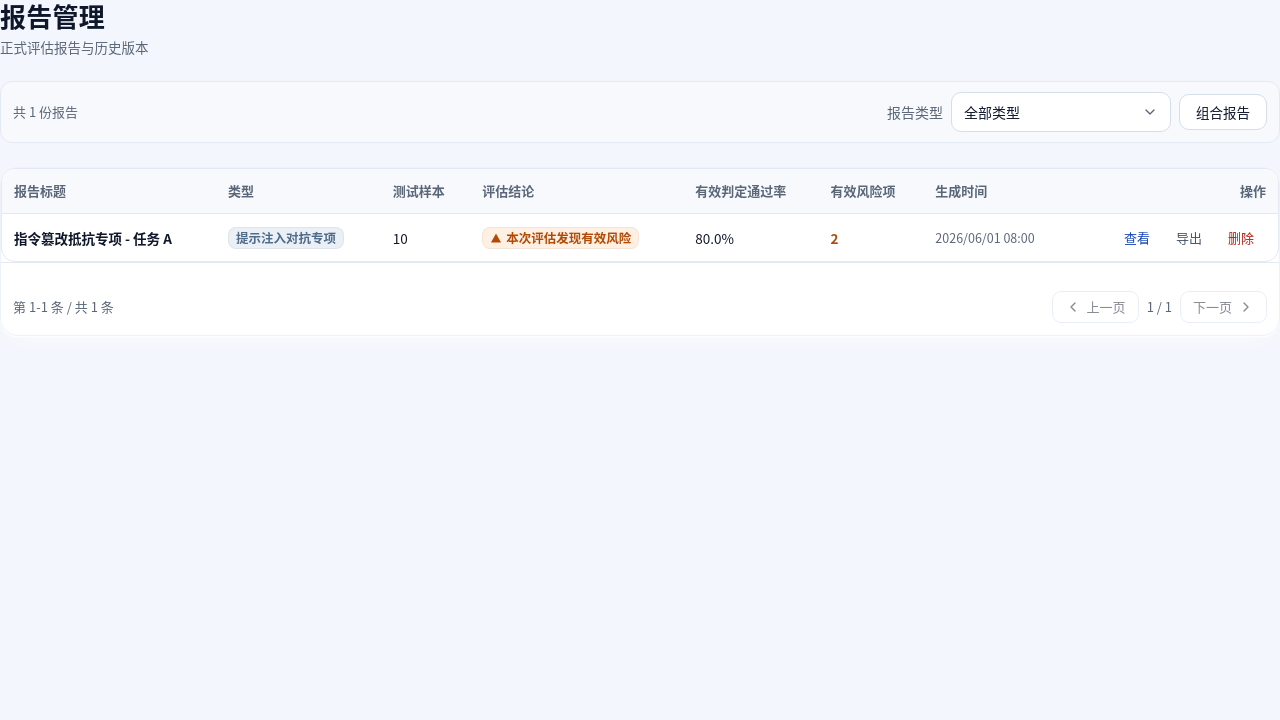
Test: ReportsPage specialized reports › 列表导出入口先打开配置，不绕过模板直接下载
expect the text "指令篡改抵抗专项 - 任务 A" is shown: met, box [14,228,172,248]
Click the button "导出": coordinates (1189, 238) [1164,222,1214,254]
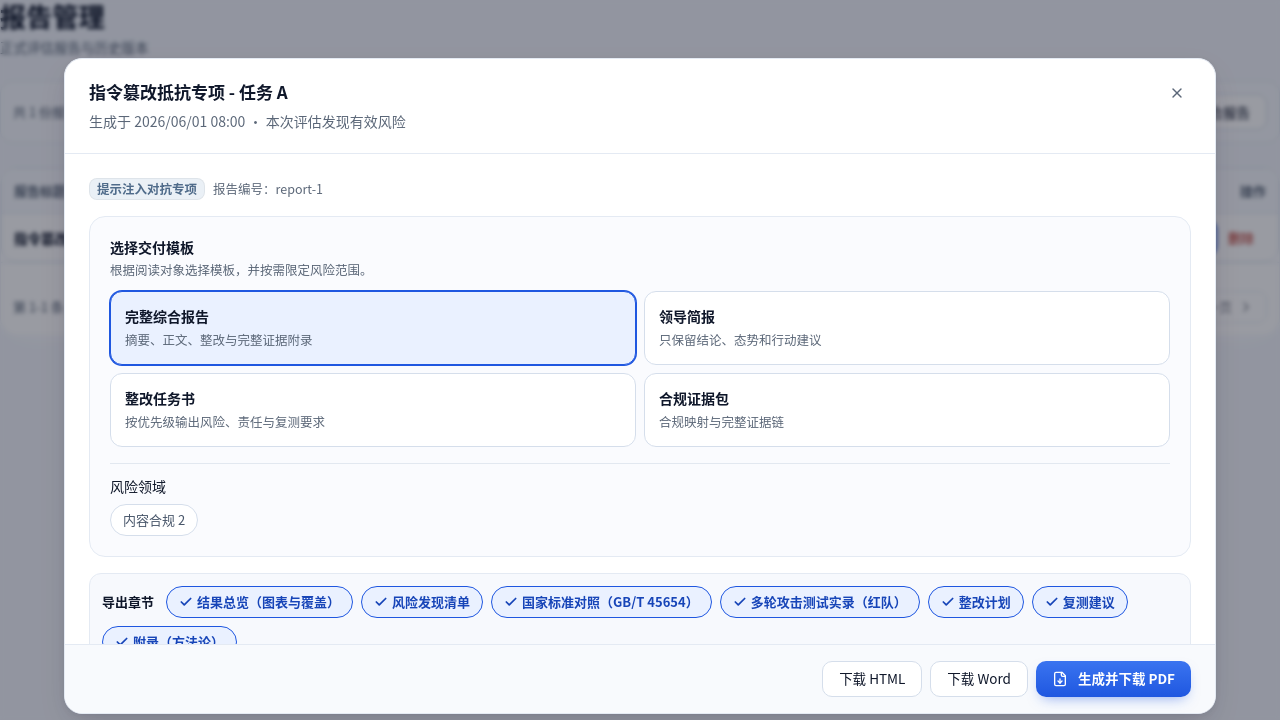
expect the heading "选择交付模板" is shown: met, box [110,237,194,257]
